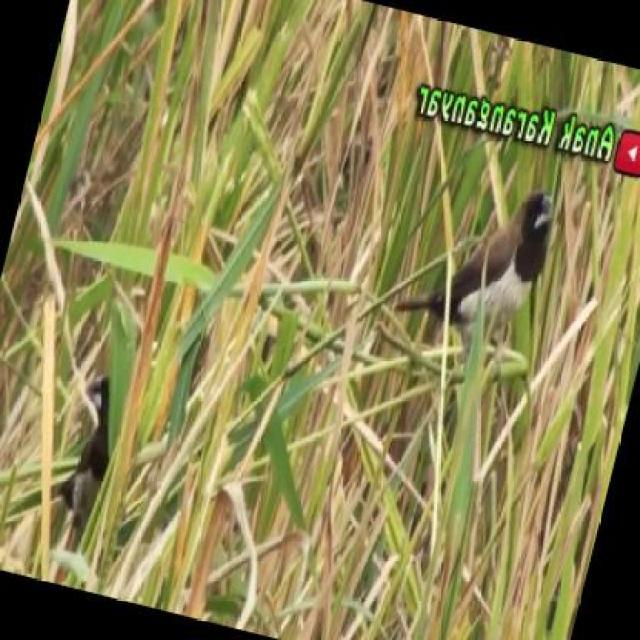Bird: (393, 189, 557, 354), (55, 373, 115, 534)
